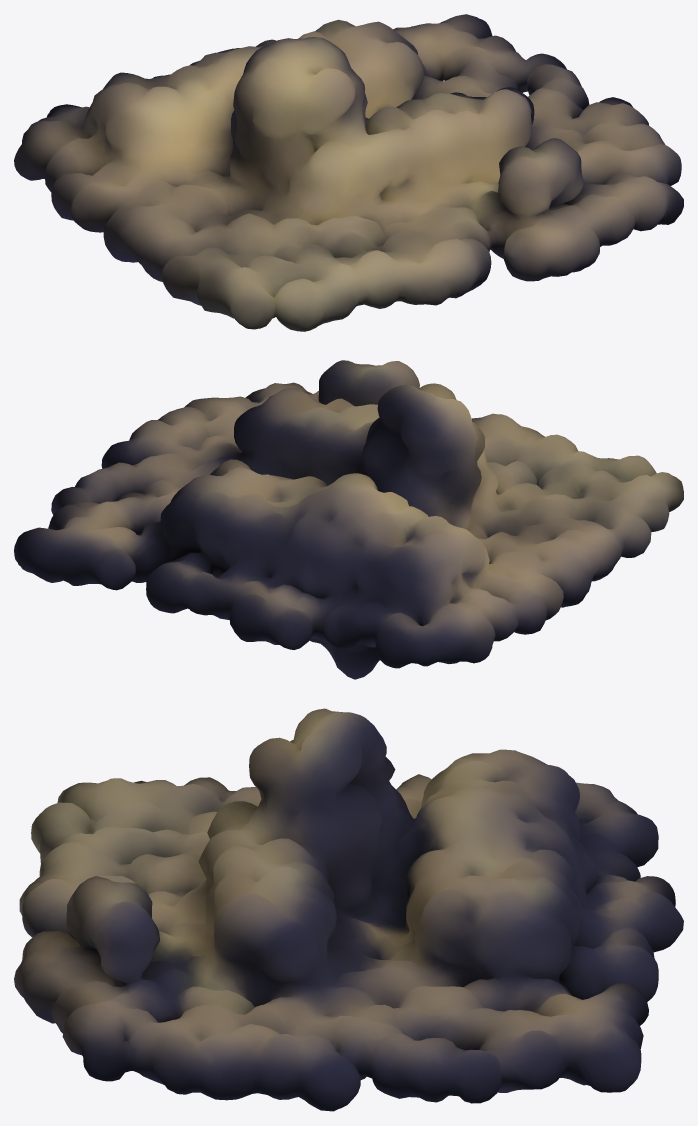
File: Clouds_Vcolor_v2.FBX
3 views of the same model, one above another, from view 1: azimuth 30°, elevation 25°; view 2: azimuth 150°, elevation 25°; view 3: azimuth 270°, elevation 25° (orthographic). The views are drawn at different scales.
Parts seen in each view (by area): view 1: cloud002; view 2: cloud002; view 3: cloud002.
Boxes of the visible parts, x1,y1,x2,y2 form: cloud002: (14,14,683,331); cloud002: (14,360,683,679); cloud002: (14,708,683,1111).
Size of the model in its own units: 33.28 by 15.08 by 31.47.
